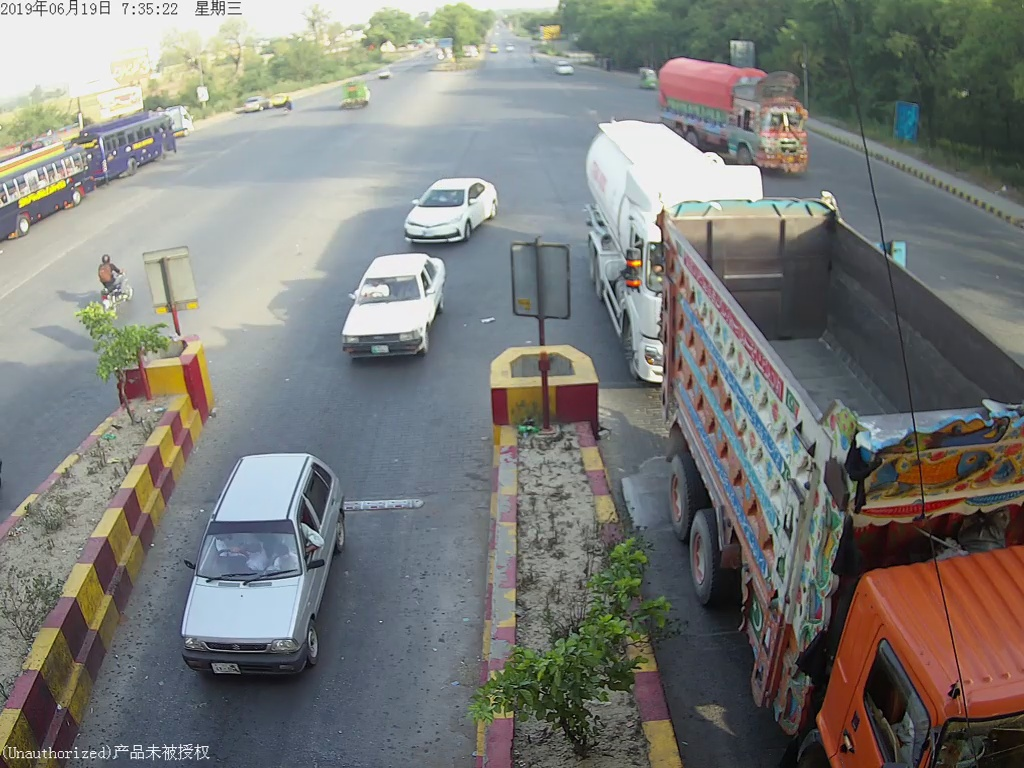Cat-1: (178, 463, 353, 679), (332, 252, 446, 361), (404, 179, 497, 242)
